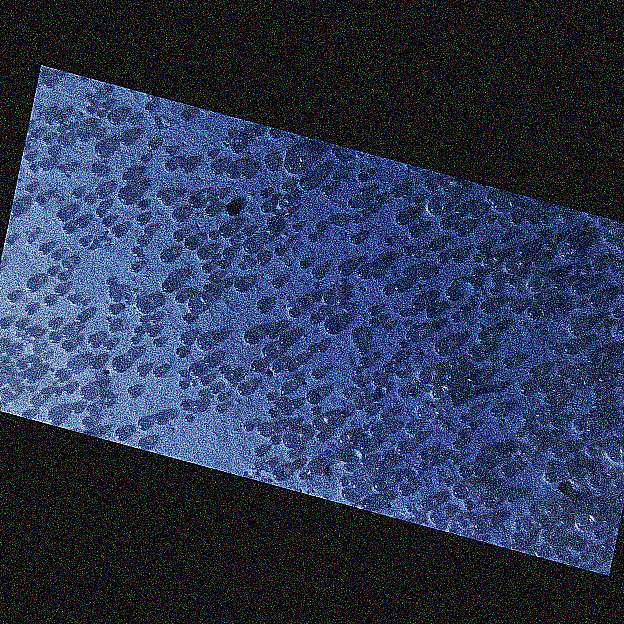GrassBeadSeg: (57, 136, 587, 516), (28, 164, 562, 465), (45, 244, 549, 557), (64, 210, 538, 516), (94, 207, 615, 476), (121, 172, 595, 450), (24, 184, 532, 423), (46, 147, 475, 421), (107, 111, 563, 368), (0, 186, 502, 415), (146, 140, 556, 415), (56, 334, 602, 539), (110, 226, 479, 528), (55, 209, 470, 476), (284, 181, 600, 529), (38, 146, 478, 390), (170, 209, 487, 531), (29, 234, 576, 409), (94, 141, 415, 433), (280, 181, 545, 516), (70, 189, 503, 392), (42, 295, 469, 499), (117, 187, 458, 442), (129, 263, 491, 497), (125, 256, 582, 441), (77, 128, 316, 475), (136, 282, 575, 468), (320, 184, 594, 478), (236, 265, 614, 478), (164, 160, 463, 420), (90, 164, 623, 308), (314, 222, 599, 486), (49, 251, 372, 469), (86, 161, 359, 416), (30, 260, 597, 381), (87, 335, 555, 481), (263, 158, 567, 379), (85, 105, 495, 268), (25, 278, 347, 485), (74, 312, 586, 442), (264, 158, 530, 407), (349, 214, 549, 541), (128, 133, 363, 409), (100, 218, 353, 473), (314, 173, 527, 470), (99, 208, 460, 382), (179, 110, 347, 479), (85, 404, 571, 525), (368, 204, 548, 528), (62, 289, 623, 392), (172, 209, 407, 453), (113, 226, 383, 437), (23, 132, 248, 382), (83, 194, 540, 317), (184, 283, 583, 422), (129, 231, 622, 343), (75, 218, 621, 317), (190, 186, 401, 441), (75, 128, 292, 373), (114, 173, 308, 440), (175, 232, 386, 474), (305, 259, 493, 525), (22, 326, 367, 469), (318, 343, 606, 513), (365, 204, 580, 429), (153, 411, 546, 531), (80, 280, 399, 426), (393, 212, 576, 465), (221, 247, 574, 378), (376, 270, 565, 514), (6, 292, 298, 448), (422, 179, 561, 501), (241, 238, 533, 391), (37, 270, 377, 397), (292, 203, 460, 456), (187, 363, 443, 523), (341, 325, 581, 495), (56, 252, 386, 372), (308, 314, 550, 477), (264, 253, 461, 449), (256, 300, 601, 410), (343, 352, 599, 500), (157, 370, 595, 455), (308, 233, 542, 385), (62, 326, 303, 472), (160, 206, 397, 354), (135, 213, 403, 341), (321, 291, 488, 495), (360, 293, 543, 476), (278, 404, 602, 507), (322, 291, 472, 510), (356, 172, 465, 472), (260, 202, 432, 385), (314, 281, 563, 407), (121, 294, 602, 359), (136, 200, 407, 315), (83, 195, 392, 295), (306, 233, 467, 422), (379, 260, 518, 477), (266, 227, 521, 345), (38, 179, 434, 253), (65, 295, 407, 378), (237, 144, 348, 397), (153, 253, 479, 333), (105, 142, 315, 266), (278, 333, 426, 507), (383, 237, 547, 393), (60, 280, 404, 351), (379, 234, 508, 421), (258, 297, 575, 373), (432, 254, 540, 464), (521, 308, 617, 542), (18, 359, 623, 396), (242, 285, 392, 431), (176, 312, 453, 390), (118, 352, 402, 428), (223, 163, 361, 315), (172, 231, 498, 295), (59, 200, 149, 430), (260, 240, 435, 358), (111, 356, 325, 443), (173, 276, 502, 332), (371, 357, 508, 491), (118, 132, 301, 231), (62, 222, 415, 272), (201, 263, 406, 348), (196, 247, 315, 390), (454, 234, 576, 371), (305, 389, 467, 491), (255, 252, 390, 373), (397, 357, 513, 496), (194, 322, 389, 404), (453, 204, 558, 353), (185, 110, 242, 382), (230, 144, 291, 394), (280, 386, 443, 479), (13, 195, 82, 413), (33, 196, 139, 336), (367, 287, 452, 460), (53, 284, 203, 382), (578, 240, 623, 562), (29, 186, 479, 217), (367, 319, 437, 518), (196, 224, 257, 451), (492, 197, 561, 393), (415, 405, 554, 501), (131, 366, 535, 398), (250, 265, 369, 373), (91, 387, 499, 418), (138, 327, 276, 418), (236, 231, 614, 264), (79, 357, 367, 400), (47, 332, 223, 402), (114, 278, 540, 306), (270, 219, 450, 285), (138, 300, 576, 327), (135, 236, 415, 278), (1, 278, 226, 330), (367, 450, 620, 496), (4, 313, 159, 388), (22, 225, 150, 315), (405, 347, 482, 496), (402, 418, 586, 480), (178, 304, 463, 344), (203, 250, 340, 333), (187, 196, 463, 237), (137, 193, 385, 238), (297, 300, 406, 398), (385, 453, 519, 531), (203, 205, 350, 275), (256, 423, 375, 509), (192, 363, 320, 442), (238, 267, 323, 385), (271, 277, 536, 314), (310, 368, 556, 407), (240, 279, 485, 318), (349, 234, 469, 313), (273, 246, 423, 309), (81, 312, 315, 352), (204, 333, 362, 392), (309, 174, 375, 315), (285, 222, 324, 459), (265, 370, 417, 430), (117, 187, 161, 377), (153, 332, 561, 352), (408, 246, 502, 331), (43, 96, 95, 246), (201, 237, 320, 301), (574, 260, 602, 529), (347, 389, 623, 416), (317, 343, 367, 491), (45, 102, 154, 168), (95, 322, 389, 346), (258, 127, 352, 200), (271, 467, 432, 508), (511, 415, 562, 544), (455, 429, 520, 530), (174, 347, 253, 428), (130, 189, 224, 255), (177, 369, 269, 436), (65, 326, 155, 394), (51, 219, 85, 396), (542, 237, 586, 372), (3, 235, 86, 306), (404, 422, 513, 476), (95, 102, 187, 165), (208, 216, 333, 262), (160, 202, 270, 253), (318, 369, 532, 395), (500, 212, 547, 327), (39, 354, 112, 428), (186, 238, 257, 314), (96, 380, 195, 434), (274, 259, 308, 412), (572, 251, 608, 383), (178, 125, 250, 191), (451, 349, 483, 497), (425, 383, 556, 419), (471, 212, 537, 283), (358, 172, 507, 203), (352, 422, 409, 503), (284, 158, 319, 289), (192, 259, 222, 411), (560, 281, 598, 397), (434, 408, 517, 461), (474, 213, 570, 258), (398, 250, 463, 316), (252, 423, 378, 457), (358, 237, 391, 366), (444, 478, 526, 527), (423, 421, 521, 462), (418, 200, 441, 373), (374, 225, 419, 313), (226, 275, 498, 289), (346, 198, 408, 255), (368, 361, 455, 401), (416, 271, 434, 463), (219, 253, 446, 268), (182, 312, 459, 324), (100, 154, 148, 222), (352, 361, 454, 393), (26, 386, 113, 423), (356, 367, 453, 400), (415, 433, 545, 457), (52, 355, 96, 425), (30, 304, 108, 341), (284, 371, 480, 385), (504, 262, 618, 285), (542, 238, 618, 272), (9, 236, 66, 281), (127, 386, 224, 412), (0, 344, 61, 384), (477, 305, 542, 342), (108, 112, 120, 301), (438, 300, 493, 341), (275, 435, 343, 468), (433, 218, 449, 354), (438, 287, 459, 390), (429, 250, 456, 330), (26, 132, 99, 161), (13, 342, 66, 381), (206, 189, 251, 234), (380, 452, 413, 512), (233, 279, 249, 396), (31, 344, 101, 370), (222, 361, 300, 384), (107, 303, 194, 323), (284, 354, 305, 430), (248, 127, 279, 178), (154, 160, 192, 200), (470, 448, 525, 475), (45, 237, 82, 277), (202, 263, 216, 368), (297, 298, 305, 479), (521, 522, 560, 559), (11, 360, 41, 407), (544, 501, 611, 522), (23, 127, 64, 160), (405, 328, 490, 343), (314, 216, 333, 283), (159, 247, 229, 264), (212, 331, 359, 339), (80, 300, 114, 332), (220, 140, 247, 178), (21, 338, 51, 370), (560, 540, 609, 559), (99, 101, 136, 126), (483, 212, 564, 223), (40, 74, 57, 124), (527, 367, 548, 404), (406, 386, 456, 401), (215, 366, 271, 378), (419, 407, 439, 436), (207, 231, 216, 291), (207, 227, 248, 240), (338, 410, 353, 445), (135, 225, 153, 254), (354, 347, 366, 388), (418, 455, 453, 469), (441, 455, 457, 484), (0, 375, 17, 401), (38, 136, 50, 171), (360, 374, 380, 395), (487, 213, 520, 224), (270, 419, 295, 433), (283, 354, 302, 372), (600, 514, 610, 547), (161, 190, 182, 205), (250, 126, 280, 136), (51, 113, 70, 127), (269, 360, 289, 373), (101, 327, 112, 350), (197, 376, 208, 398), (13, 319, 23, 343), (195, 334, 211, 349), (269, 423, 280, 444), (196, 333, 223, 341), (567, 375, 583, 388), (137, 313, 155, 324), (20, 304, 33, 319), (480, 495, 493, 508), (310, 416, 324, 428), (55, 125, 73, 134), (15, 360, 26, 368), (351, 338, 360, 346), (411, 433, 415, 440), (415, 437, 420, 442), (349, 437, 352, 444)
